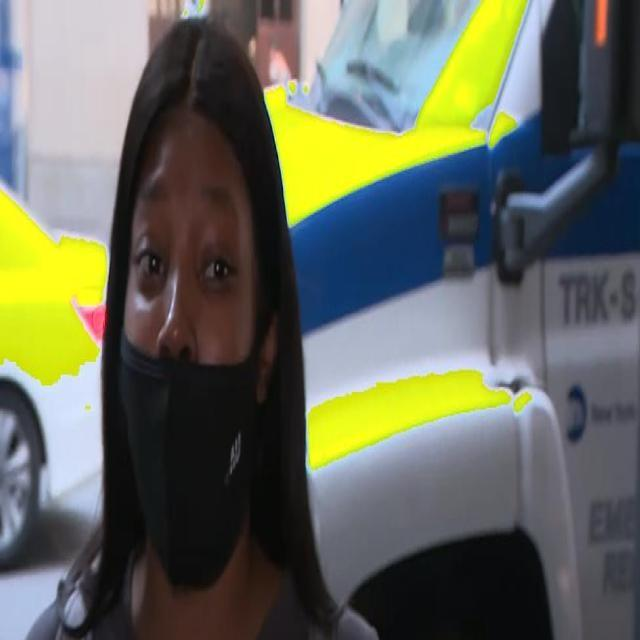hairnet: (126, 174, 241, 588)
